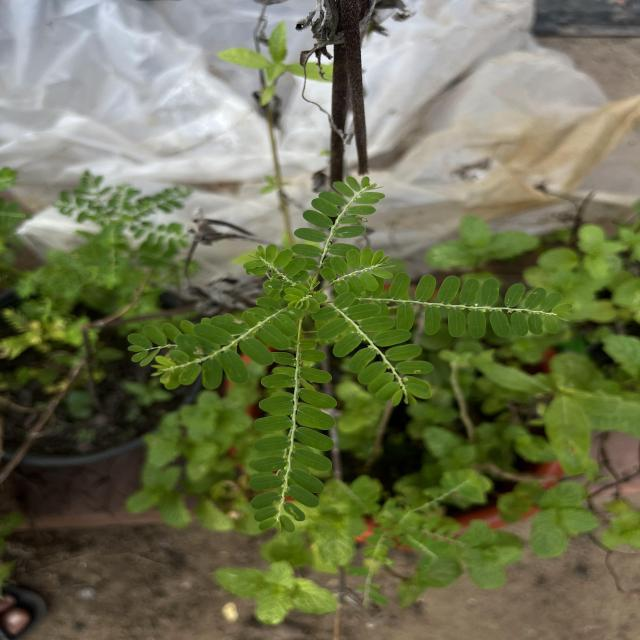Phyllanthus niruri: (249, 333, 338, 534), (348, 269, 575, 340), (308, 290, 436, 408), (157, 303, 307, 394), (292, 173, 387, 270), (321, 246, 398, 294), (243, 242, 311, 296)
